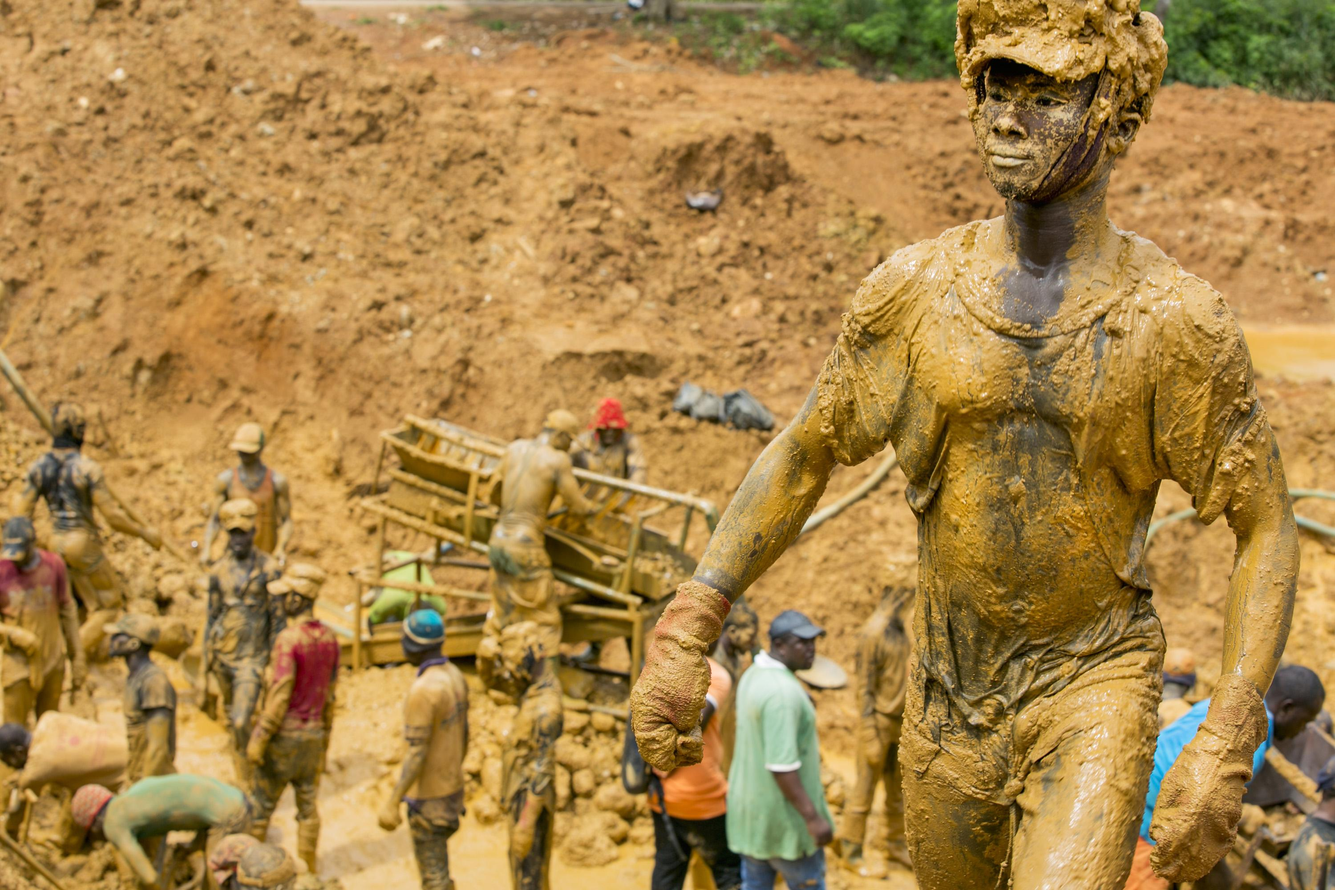Person: (620, 8, 1307, 890), (1128, 662, 1331, 884), (18, 401, 159, 679), (470, 407, 597, 706), (242, 561, 347, 878), (722, 607, 833, 890), (373, 605, 474, 888), (198, 497, 288, 765), (494, 607, 572, 890), (853, 571, 921, 879), (70, 777, 255, 890), (578, 386, 648, 675), (0, 512, 85, 717), (0, 704, 144, 813), (99, 615, 185, 777), (200, 425, 296, 566), (711, 610, 764, 803), (1142, 643, 1202, 733)
ProcessingEquiment: (340, 394, 716, 740)
